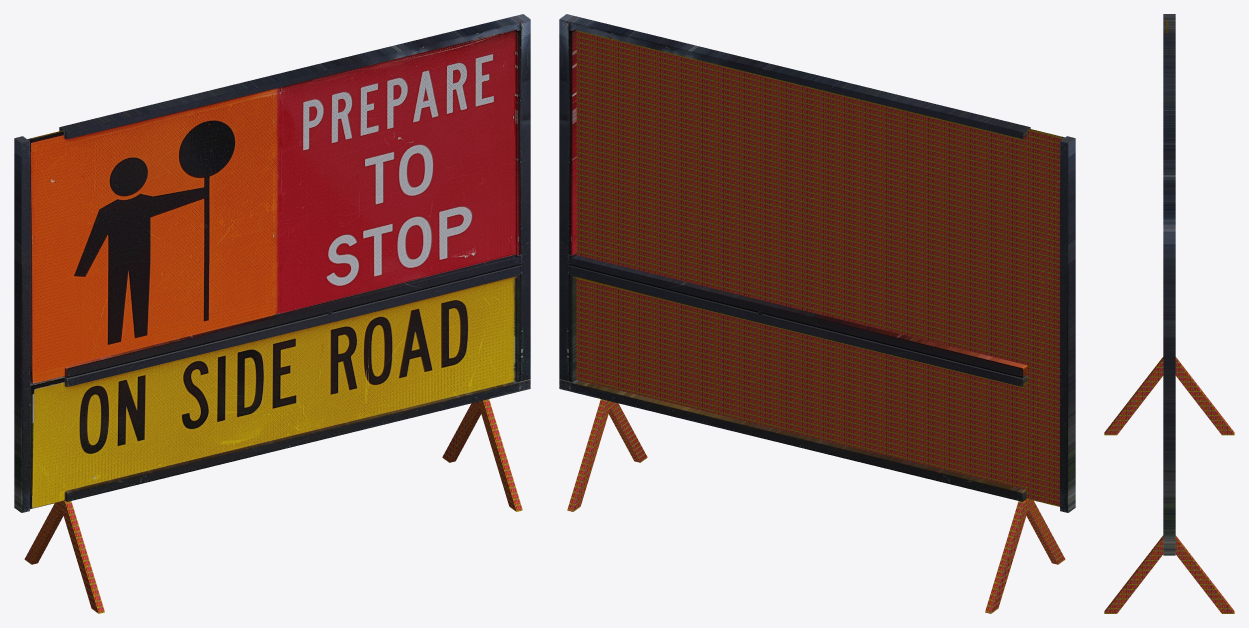
File: Big Stop.fbx
The picture shows the model from 3 angles, left to right: view 1: azimuth 30°, elevation 25°; view 2: azimuth 150°, elevation 25°; view 3: azimuth 270°, elevation 25°; orthographic projection. The views are drawn at different scales.
Parts seen in each view (by area): view 1: ROADWORKS_PREPARE-TO-STOP; view 2: ROADWORKS_PREPARE-TO-STOP; view 3: ROADWORKS_PREPARE-TO-STOP.
Part boxes in pixels (left/top/right/bottom): ROADWORKS_PREPARE-TO-STOP: left=14, top=14, right=530, bottom=613; ROADWORKS_PREPARE-TO-STOP: left=559, top=14, right=1075, bottom=613; ROADWORKS_PREPARE-TO-STOP: left=1104, top=14, right=1234, bottom=613.
Size of the model in its own units: 96.85 by 83.02 by 24.55.
Materials: 1 (1 with a texture image).
